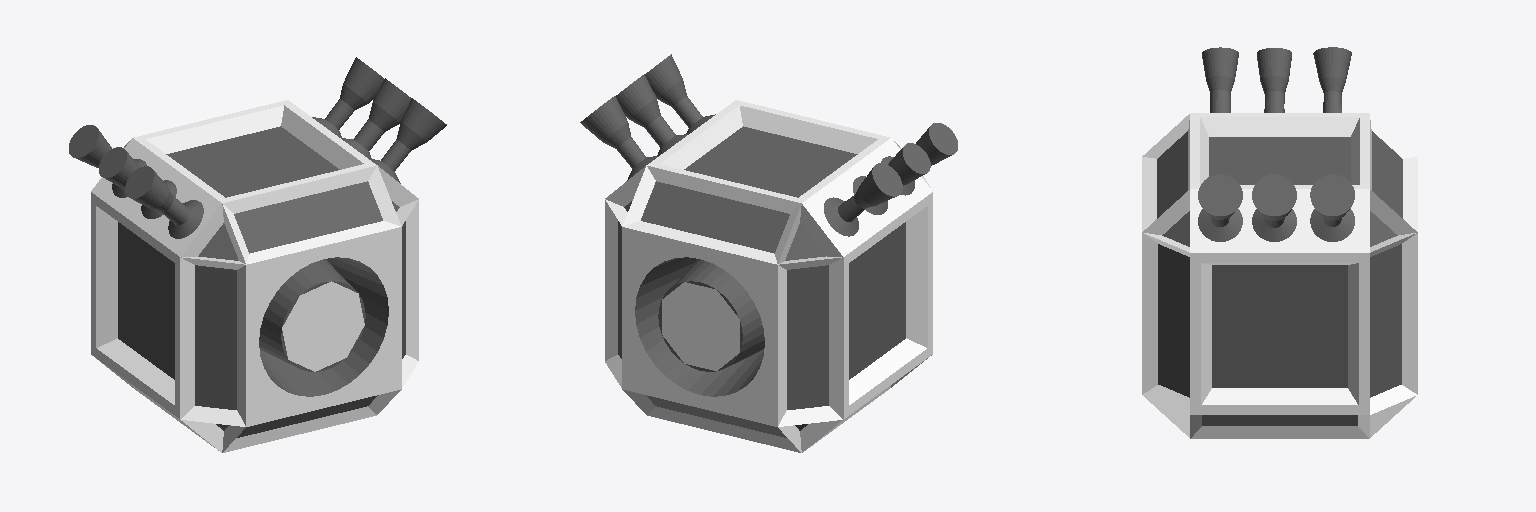
The picture shows the model from 3 angles: view 1: azimuth 30°, elevation 25°; view 2: azimuth 150°, elevation 25°; view 3: azimuth 270°, elevation 25°; orthographic projection.
Visible parts, largest first — view 1: Engine_立方体.001; view 2: Engine_立方体.001; view 3: Engine_立方体.001.
Part boxes in pixels (left/top/right/bottom): Engine_立方体.001: left=69, top=57, right=446, bottom=452; Engine_立方体.001: left=580, top=54, right=957, bottom=452; Engine_立方体.001: left=1142, top=47, right=1417, bottom=438.
Bounding box in the file's own units: 2.31 × 2.04 × 1.75.
Materials: 1 (1 with a texture image).